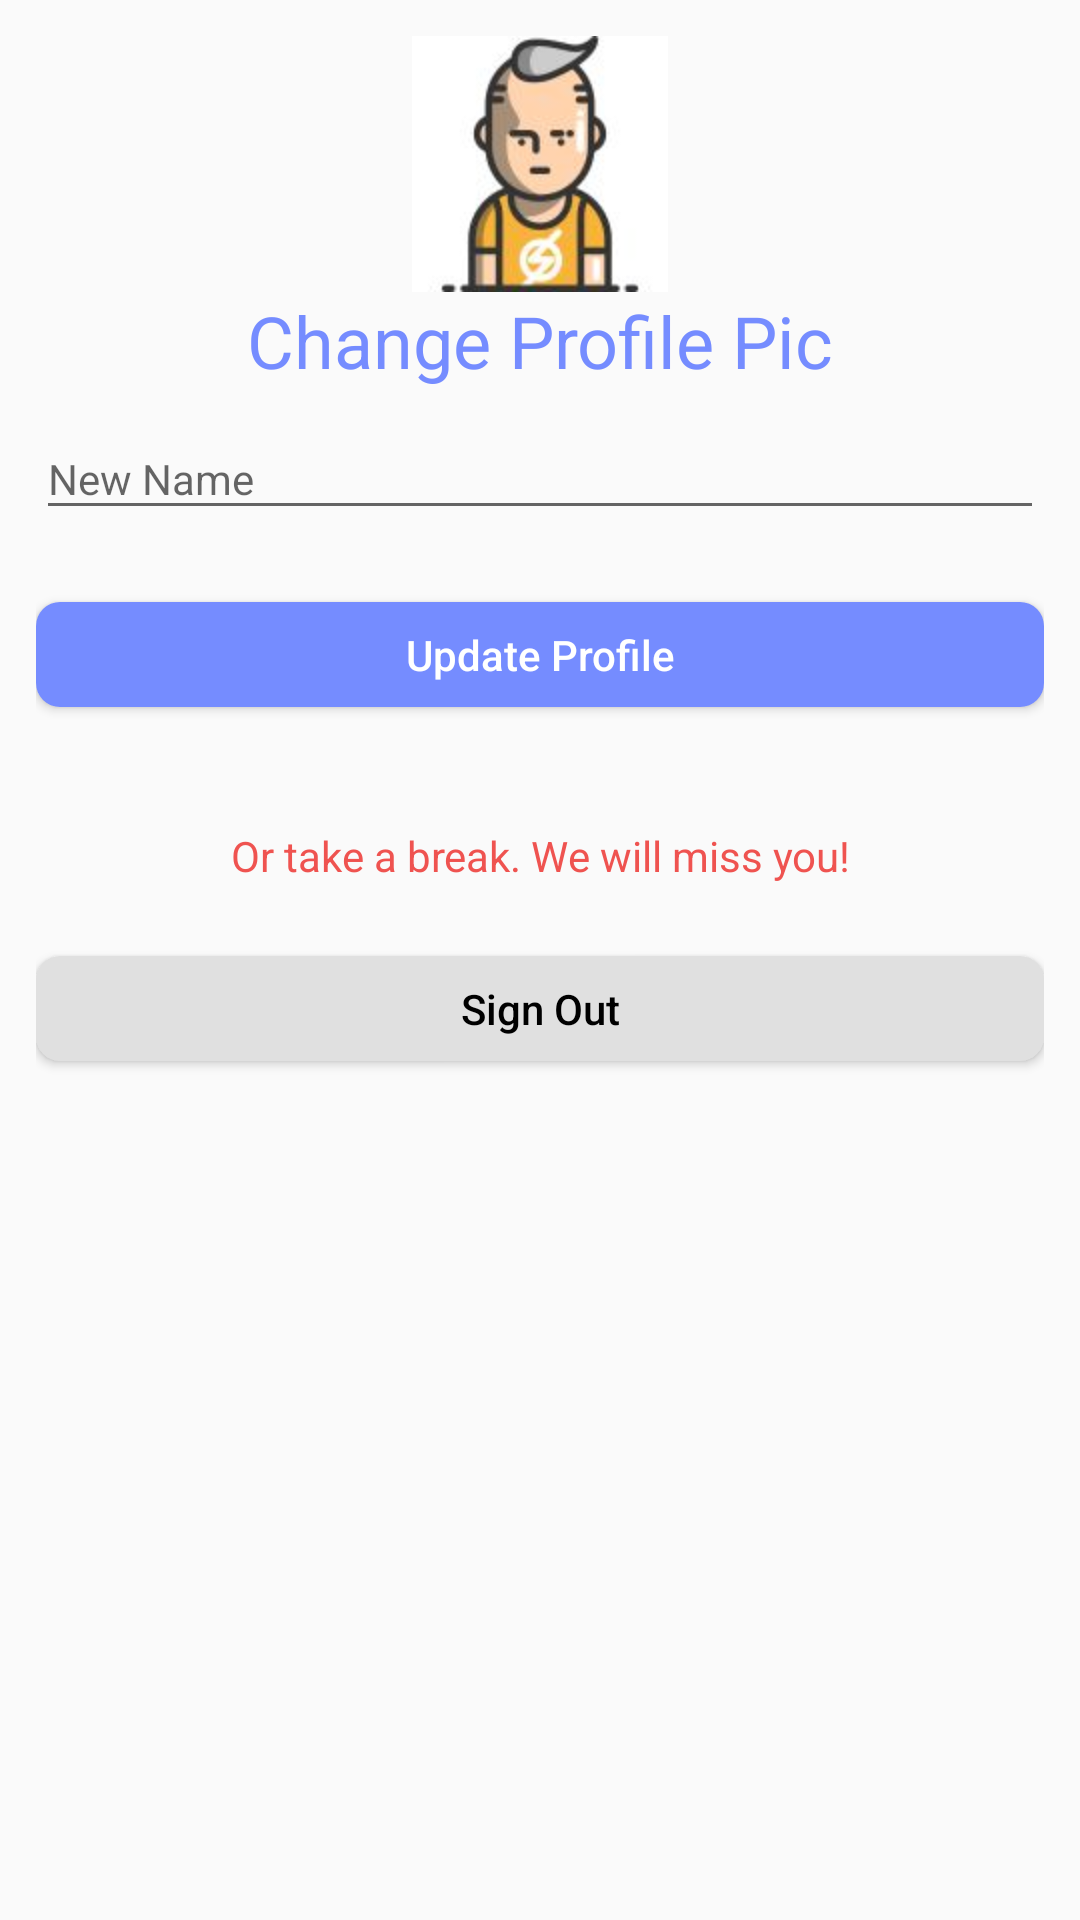

Screen size 1080w x 1920h. Icon name, then its center in pixels as [x,y]:
boy: [540,164]
